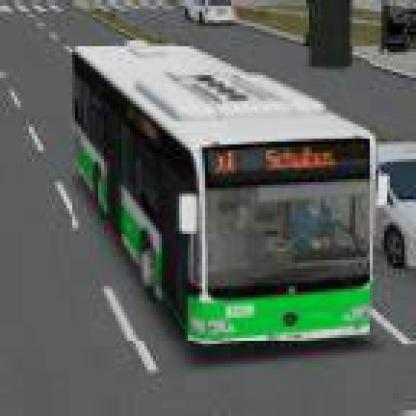bus: (73, 47, 374, 345)
